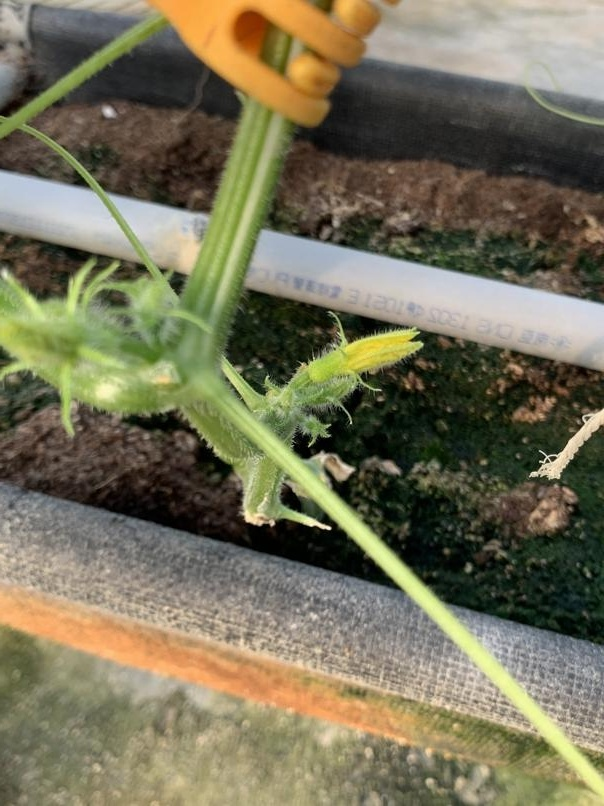bud: (298, 325, 424, 394)
